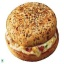hamburger: (4, 1, 59, 61)
